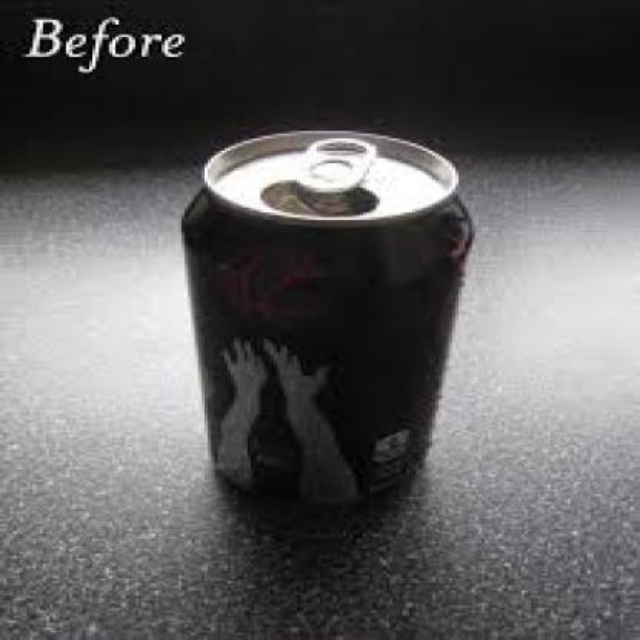trash: (182, 131, 471, 502)
